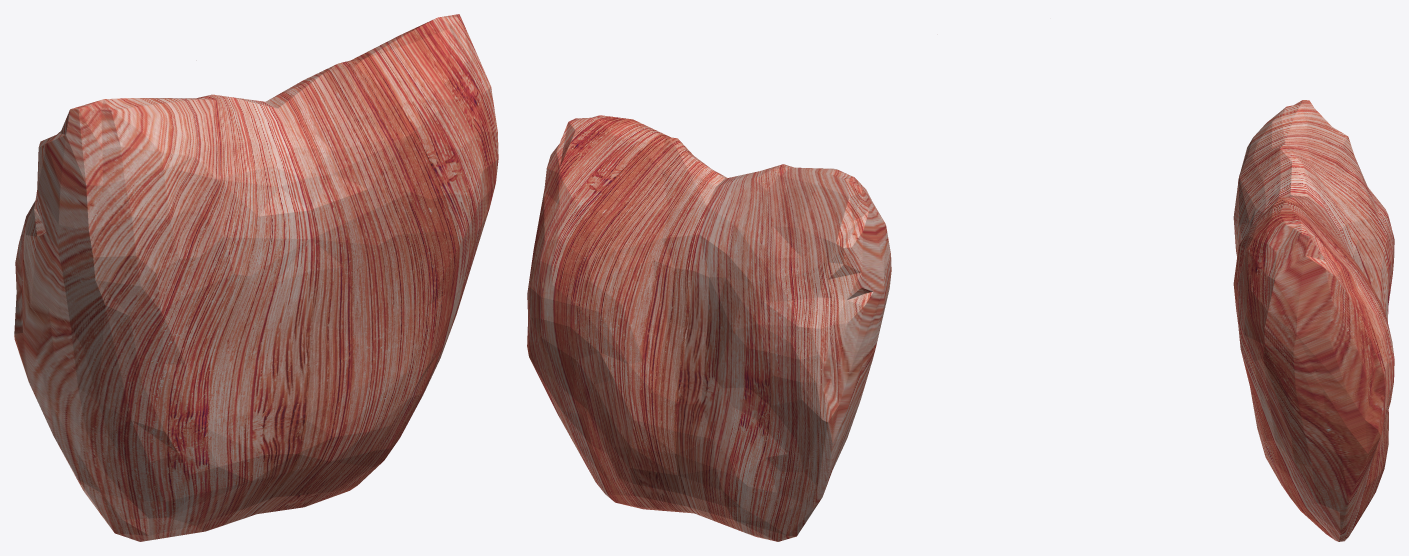
File: Mentalis.obj
3 views of the same model, side by side, from view 1: azimuth 30°, elevation 25°; view 2: azimuth 150°, elevation 25°; view 3: azimuth 270°, elevation 25° (orthographic). The views are drawn at different scales.
Visible parts, largest first — view 1: Musculos_Cabeza_1:Mentalis:Mentalis; view 2: Musculos_Cabeza_1:Mentalis:Mentalis; view 3: Musculos_Cabeza_1:Mentalis:Mentalis.
Boxes of the visible parts, x1,y1,x2,y2 form: Musculos_Cabeza_1:Mentalis:Mentalis: (14, 14, 498, 541); Musculos_Cabeza_1:Mentalis:Mentalis: (527, 115, 891, 541); Musculos_Cabeza_1:Mentalis:Mentalis: (1233, 100, 1394, 541).
Size of the model in its own units: 0.0976 by 0.1291 by 0.0966.
Materials: 1 (1 with a texture image).
